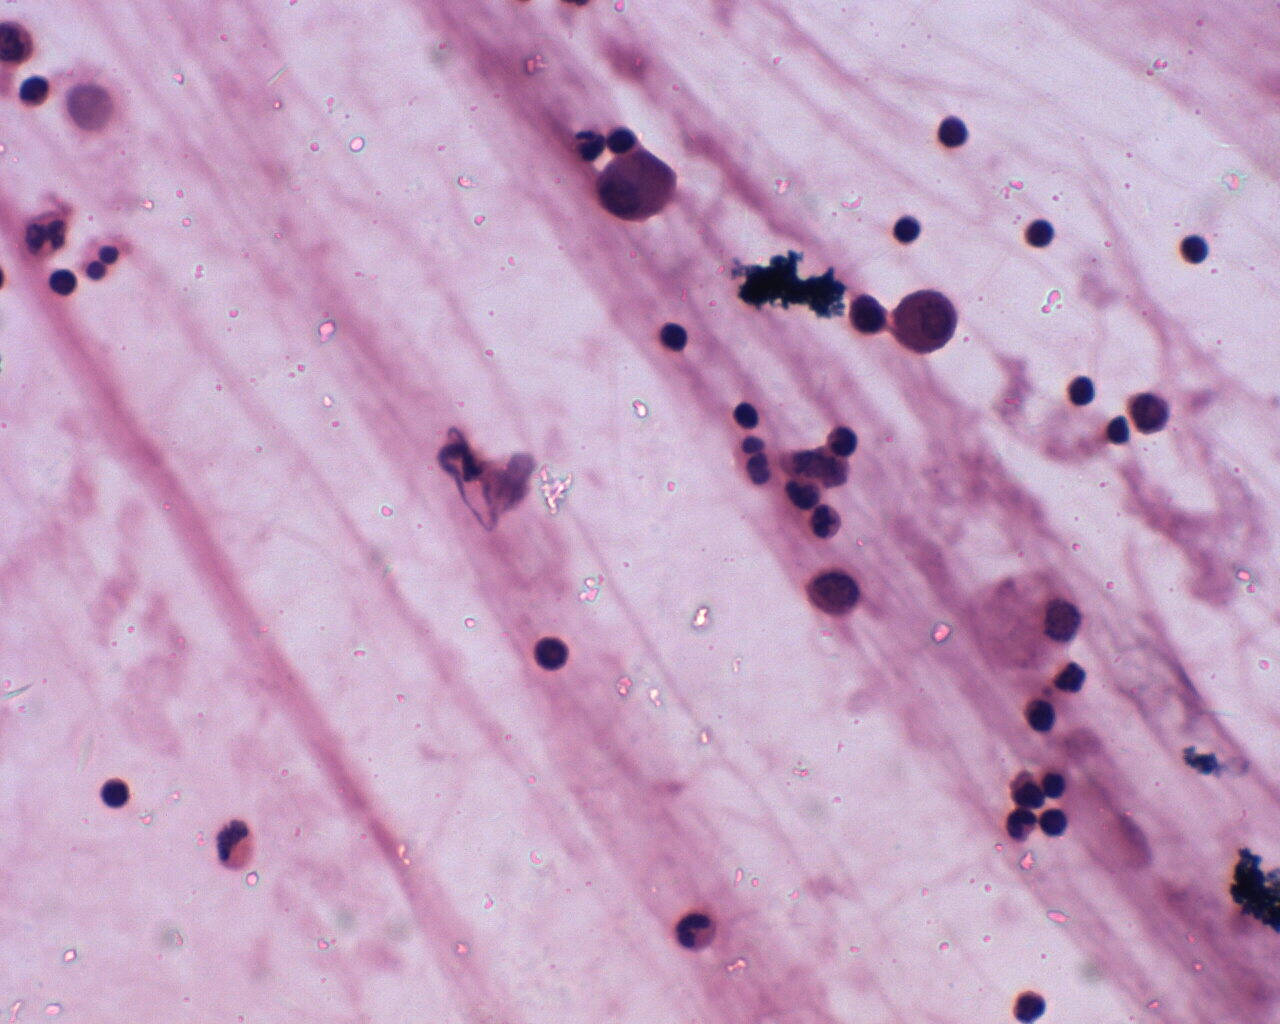ab: (599, 150, 676, 223), (892, 287, 960, 356)
lymph: (933, 110, 973, 155), (1017, 214, 1064, 252), (529, 633, 571, 675), (96, 775, 133, 813), (1177, 232, 1212, 267), (885, 214, 926, 245), (1038, 806, 1072, 841)
neutro: (671, 910, 721, 954)
